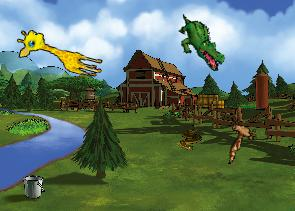crocodile: (166, 12, 235, 73)
eagle: (217, 111, 262, 164)
giraffe: (13, 26, 107, 79)
